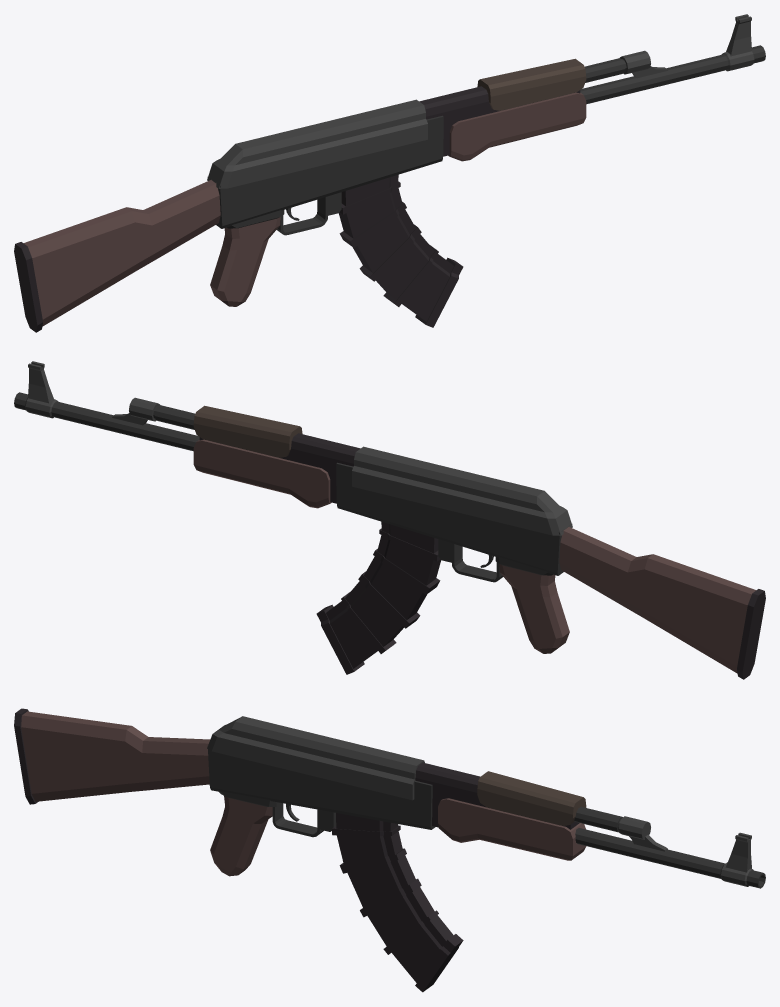
The model's file is gun_rifle.glb.
The picture shows the model from 3 angles, top to bottom: view 1: azimuth 30°, elevation 25°; view 2: azimuth 150°, elevation 25°; view 3: azimuth 330°, elevation 25°; orthographic projection.
Visible parts, largest first — view 1: AssaultRifle_2; view 2: AssaultRifle_2; view 3: AssaultRifle_2.
Boxes of the visible parts, left/top/right/bottom form: AssaultRifle_2: left=14, top=14, right=765, bottom=332; AssaultRifle_2: left=14, top=361, right=765, bottom=679; AssaultRifle_2: left=14, top=708, right=765, bottom=992.
Size of the model in its own units: 5.42 by 1.6 by 0.1959.
1 material, 1 textured.
